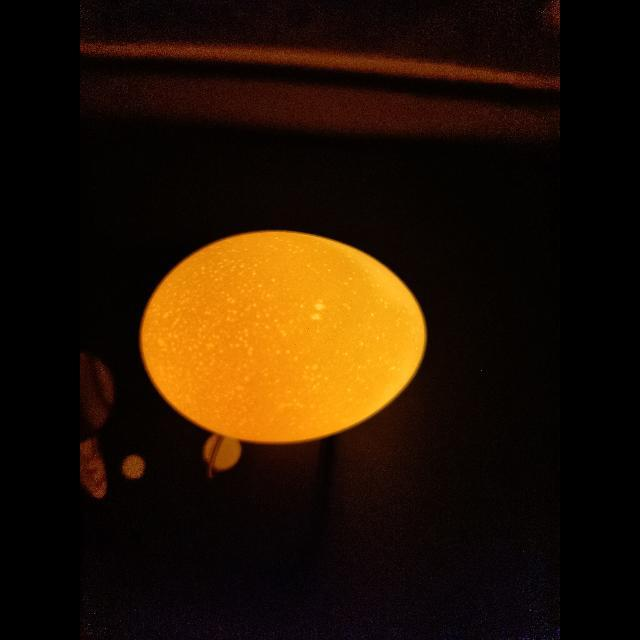AA - Premium: (140, 231, 426, 443)
